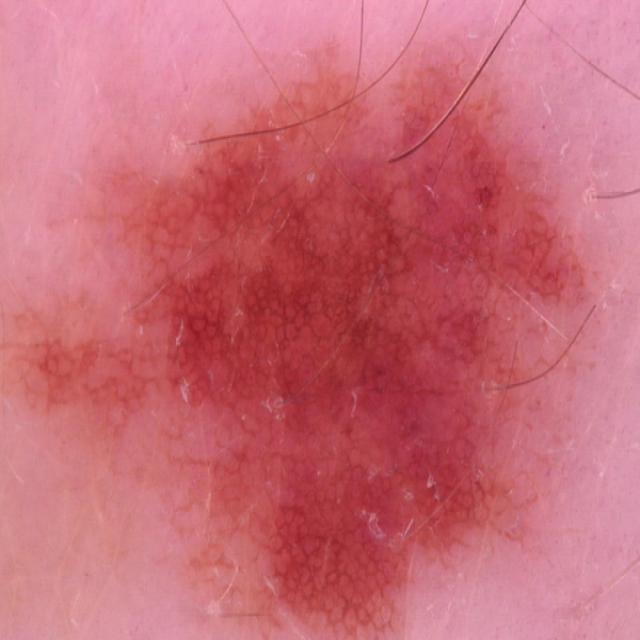MEL: (4, 41, 597, 634)
NV: (145, 31, 436, 94)
